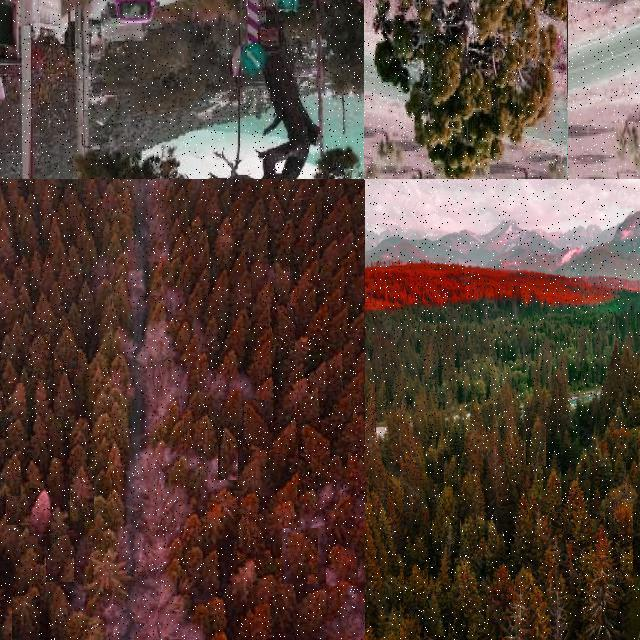tree: (103, 1, 365, 180), (364, 0, 568, 180), (578, 519, 620, 640), (500, 571, 554, 640), (454, 558, 486, 640), (458, 510, 502, 568), (484, 435, 512, 525), (605, 499, 633, 583), (547, 357, 569, 449), (282, 528, 318, 584), (284, 377, 320, 428), (237, 444, 269, 500), (298, 420, 330, 476), (296, 584, 328, 640), (366, 513, 382, 623), (511, 498, 535, 570), (432, 484, 460, 544), (562, 480, 590, 540), (243, 400, 273, 450), (249, 329, 275, 386), (46, 530, 74, 582), (13, 587, 40, 640), (624, 389, 640, 478), (240, 600, 274, 640), (224, 311, 250, 363), (326, 544, 358, 586), (48, 584, 72, 640), (622, 382, 640, 456), (99, 442, 125, 493), (70, 467, 94, 521), (626, 344, 640, 436), (538, 545, 566, 591), (237, 514, 265, 560), (268, 499, 296, 545), (404, 562, 428, 614), (374, 502, 394, 564), (628, 462, 640, 562), (220, 384, 244, 432), (16, 548, 40, 596), (286, 335, 312, 377), (29, 488, 51, 536), (526, 414, 546, 466), (212, 272, 232, 324), (218, 428, 238, 480), (28, 334, 50, 380), (195, 414, 218, 458), (424, 594, 448, 636), (54, 327, 78, 369), (6, 483, 30, 525), (54, 372, 74, 422), (34, 292, 56, 336), (342, 410, 366, 450), (0, 451, 21, 496), (252, 283, 272, 329), (6, 383, 26, 425), (204, 316, 222, 362), (543, 468, 561, 512), (422, 336, 438, 384), (404, 486, 420, 534), (436, 544, 452, 592), (606, 338, 622, 386), (348, 446, 364, 494), (408, 534, 428, 572), (277, 306, 295, 346), (274, 260, 290, 302), (576, 331, 592, 371), (448, 417, 464, 455), (632, 351, 640, 425), (364, 384, 376, 432), (268, 194, 284, 230), (352, 489, 364, 531), (0, 600, 12, 640), (354, 346, 366, 386), (353, 394, 365, 434), (444, 451, 458, 485), (436, 430, 448, 462), (376, 378, 388, 410), (394, 378, 406, 410), (632, 380, 640, 426), (612, 452, 626, 478), (632, 360, 640, 400), (632, 411, 640, 451), (460, 372, 470, 400), (476, 378, 486, 402), (0, 416, 5, 463)
